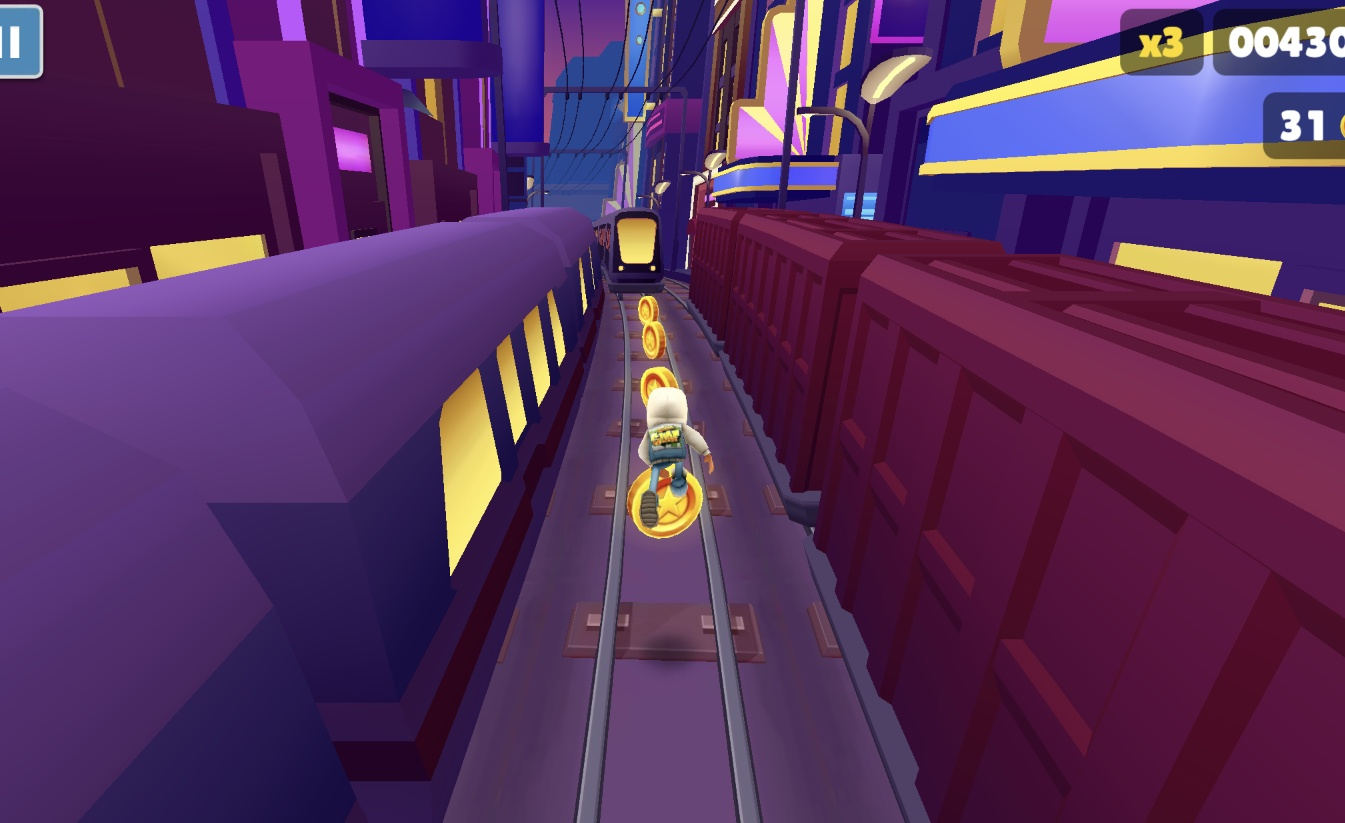train: (687, 205, 1345, 823), (0, 206, 603, 823), (602, 207, 666, 296)
